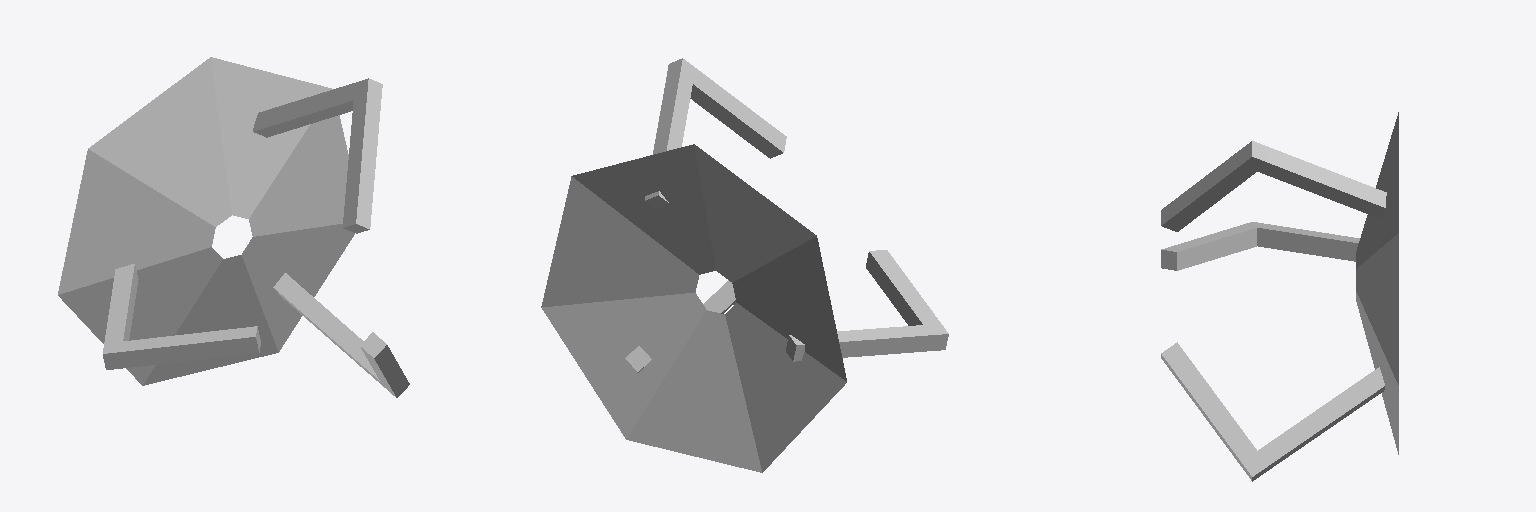
File: generatorSimple.obj
The picture shows the model from 3 angles: view 1: azimuth 30°, elevation 25°; view 2: azimuth 150°, elevation 25°; view 3: azimuth 270°, elevation 25°; orthographic projection.
Visible parts, largest first — view 1: Object.1; view 2: Object.1; view 3: Object.1.
Boxes of the visible parts, x1,y1,x2,y2 form: Object.1: [58, 57, 409, 397]; Object.1: [541, 58, 948, 472]; Object.1: [1161, 112, 1398, 481].
Size of the model in its own units: 62.66 by 58.59 by 38.59.